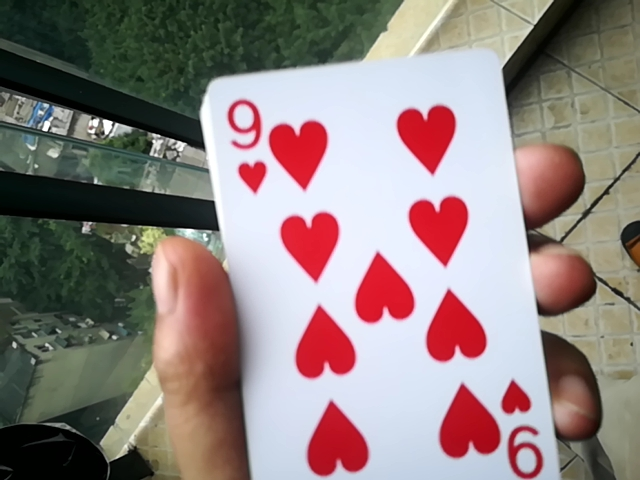hx 9: (197, 45, 559, 480)
